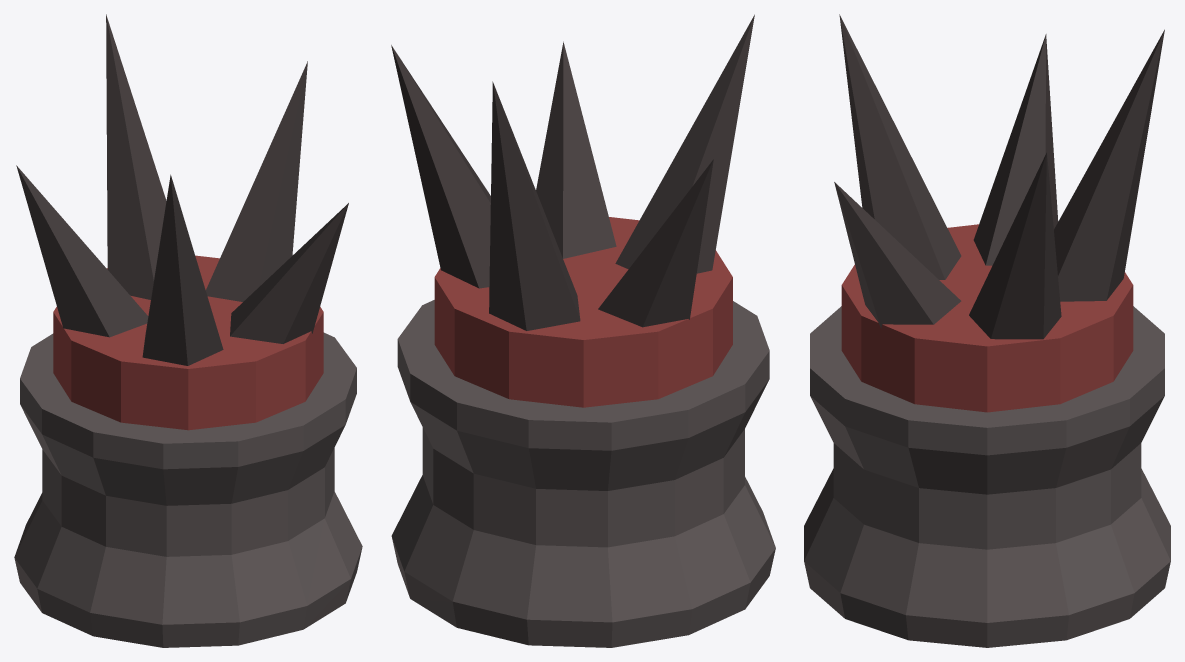
The model's file is void_sculpture_a.obj.
3 views of the same model, side by side, from view 1: azimuth 30°, elevation 25°; view 2: azimuth 150°, elevation 25°; view 3: azimuth 270°, elevation 25° (orthographic). The views are drawn at different scales.
Visible parts, largest first — view 1: void_sculpture_a_0, void_sculpture_a_1, void_sculpture_a_2, void_sculpture_a_6, void_sculpture_a_3, void_sculpture_a_4, void_sculpture_a_5; view 2: void_sculpture_a_0, void_sculpture_a_1, void_sculpture_a_2, void_sculpture_a_6, void_sculpture_a_4, void_sculpture_a_5, void_sculpture_a_3; view 3: void_sculpture_a_0, void_sculpture_a_1, void_sculpture_a_2, void_sculpture_a_4, void_sculpture_a_6, void_sculpture_a_5, void_sculpture_a_3.
Part boxes in pixels (bbox=[...]): void_sculpture_a_0: bbox=[14, 332, 362, 647]; void_sculpture_a_1: bbox=[53, 255, 323, 430]; void_sculpture_a_2: bbox=[106, 14, 166, 299]; void_sculpture_a_6: bbox=[205, 61, 307, 301]; void_sculpture_a_3: bbox=[16, 165, 148, 337]; void_sculpture_a_4: bbox=[142, 174, 223, 365]; void_sculpture_a_5: bbox=[230, 203, 348, 343]; void_sculpture_a_0: bbox=[391, 300, 775, 647]; void_sculpture_a_1: bbox=[434, 217, 732, 407]; void_sculpture_a_2: bbox=[489, 81, 580, 330]; void_sculpture_a_6: bbox=[391, 45, 490, 288]; void_sculpture_a_4: bbox=[615, 14, 754, 273]; void_sculpture_a_5: bbox=[536, 41, 616, 258]; void_sculpture_a_3: bbox=[598, 159, 713, 327]; void_sculpture_a_0: bbox=[804, 306, 1170, 647]; void_sculpture_a_1: bbox=[841, 224, 1133, 412]; void_sculpture_a_2: bbox=[1054, 29, 1164, 301]; void_sculpture_a_4: bbox=[839, 14, 961, 279]; void_sculpture_a_6: bbox=[969, 152, 1061, 339]; void_sculpture_a_5: bbox=[834, 182, 961, 328]; void_sculpture_a_3: bbox=[973, 34, 1058, 265].
Size of the model in its own units: 0.62 by 0.9854 by 0.6044.
